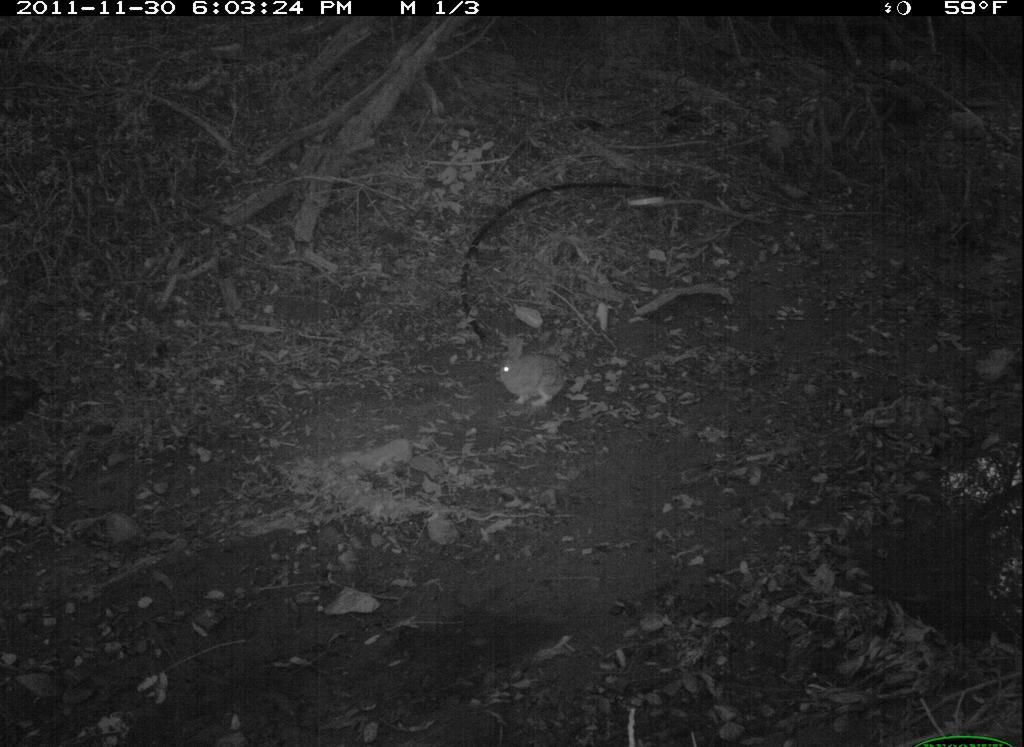rabbit: (494, 329, 572, 409)
